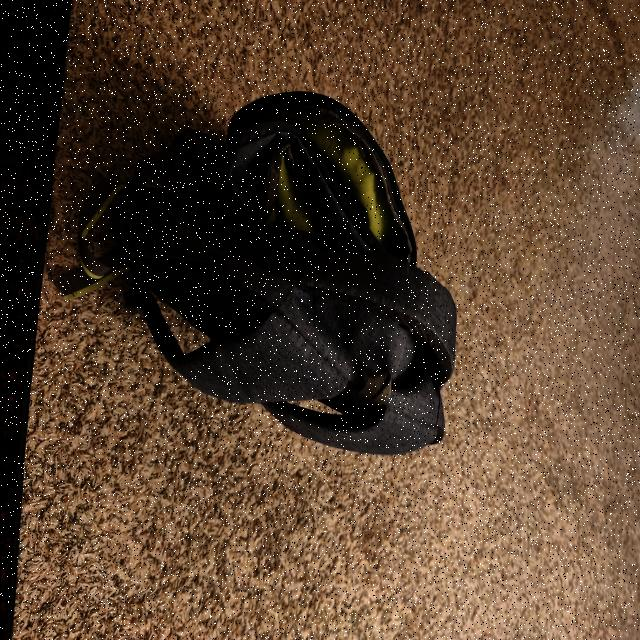bag: (113, 102, 440, 440)
